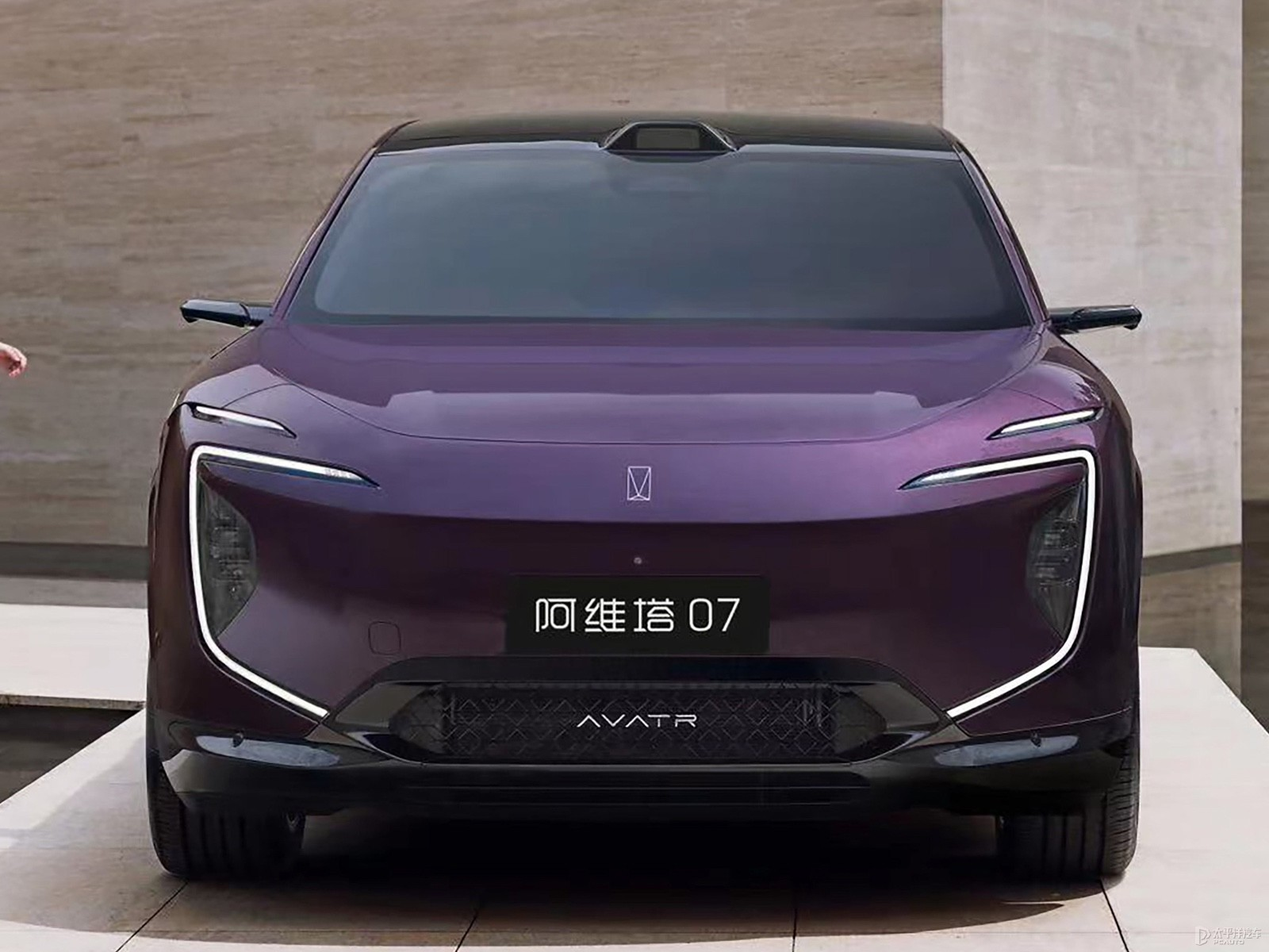AVATR: (627, 466, 650, 501)
